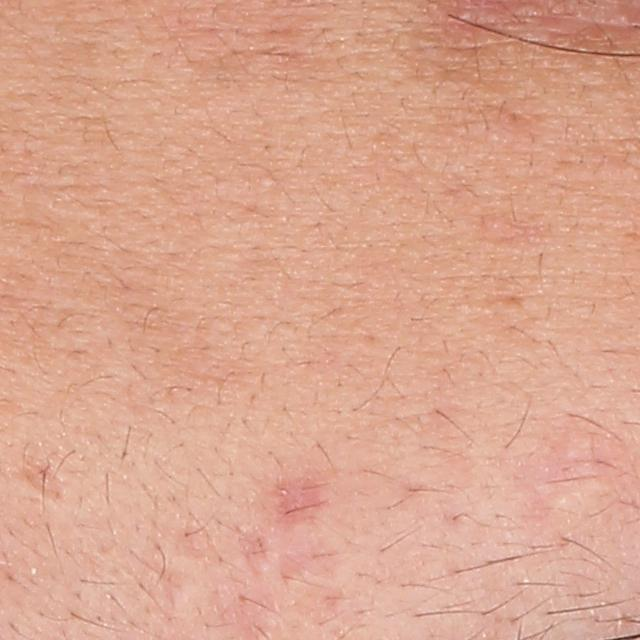atrophic_scar: (260, 459, 349, 551), (20, 453, 67, 505), (235, 527, 271, 576)
